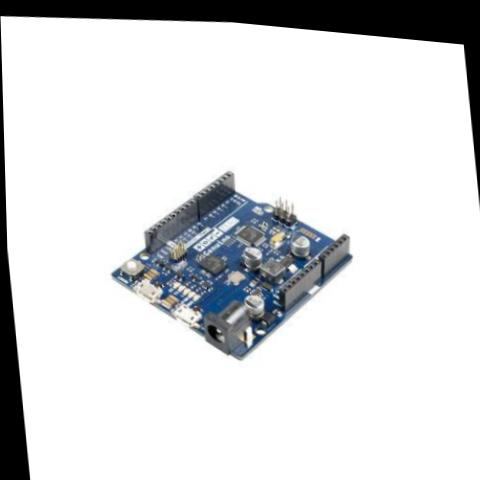Arduino-Zero: (73, 125, 390, 399)
